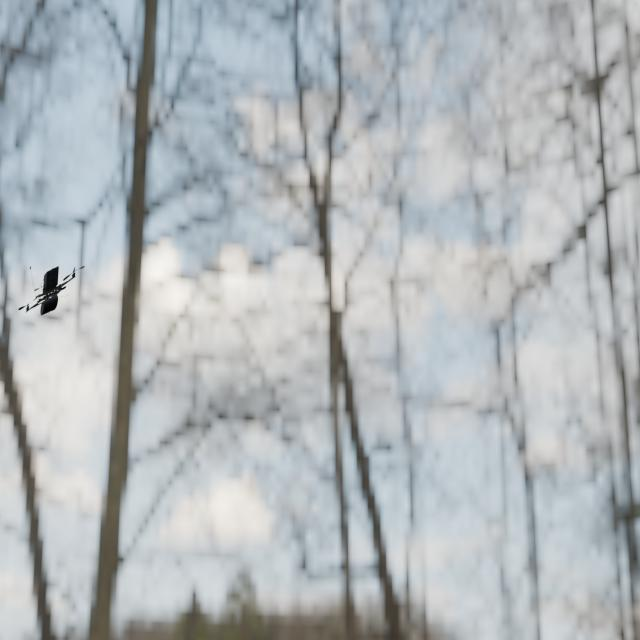drone: (18, 266, 85, 316)
